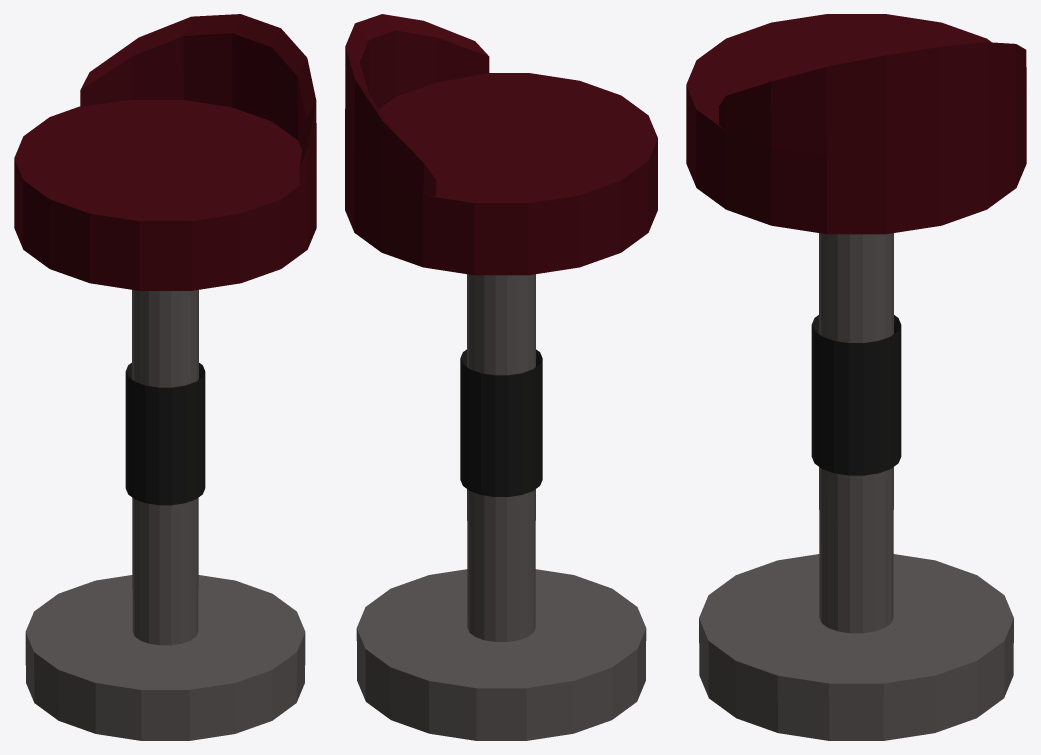
Rendered from Seat.fbx.
The picture shows the model from 3 angles, left to right: view 1: azimuth 30°, elevation 25°; view 2: azimuth 150°, elevation 25°; view 3: azimuth 270°, elevation 25°; orthographic projection. The views are drawn at different scales.
Visible parts, largest first — view 1: Seat; view 2: Seat; view 3: Seat.
Part boxes in pixels (x1,y1,x2,y2): Seat: [14, 14, 316, 740]; Seat: [345, 14, 657, 740]; Seat: [686, 14, 1026, 740].
Size of the model in its own units: 215 by 488 by 218.
